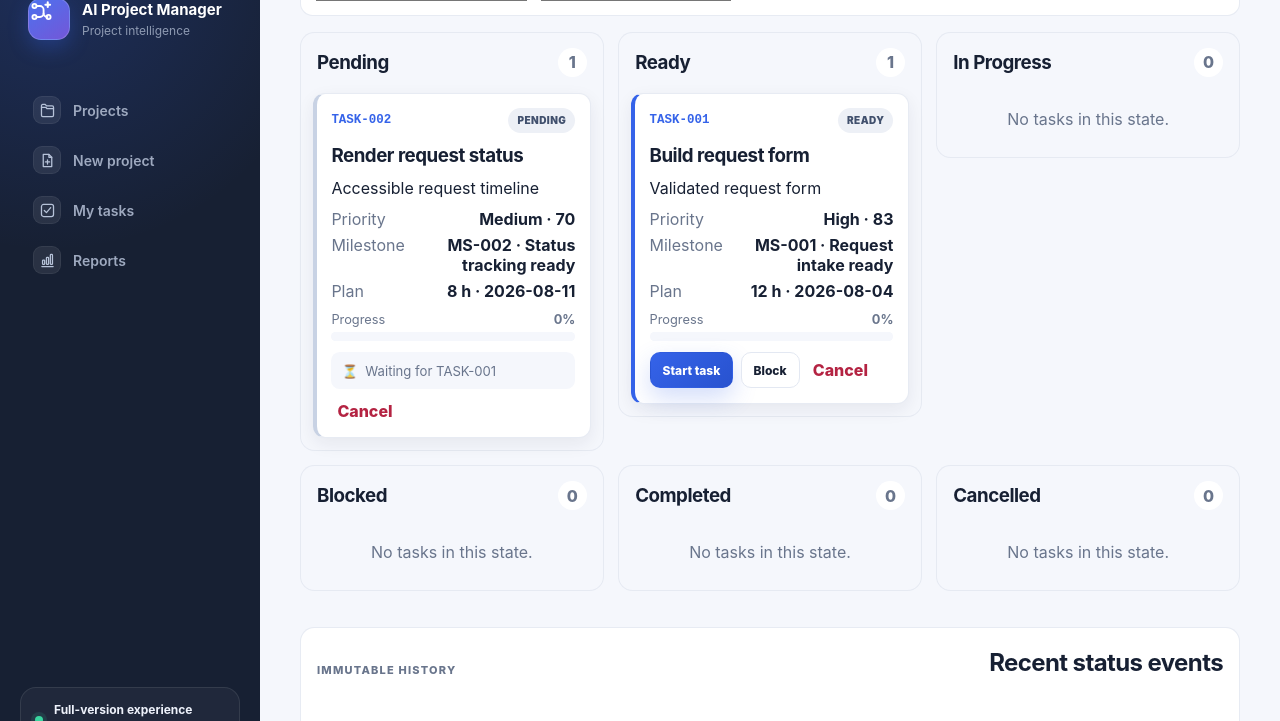
Test case: active execution experience › surfaces a recoverable optimistic concurrency conflict
This screenshot has width=1280, height=721.
(page scrolled)
expect the element "Build request form" is shown: met, box x1=631 y1=92 x2=909 y2=404
Click the button "Start task".
click(691, 370)  # box x1=650 y1=352 x2=733 y2=388
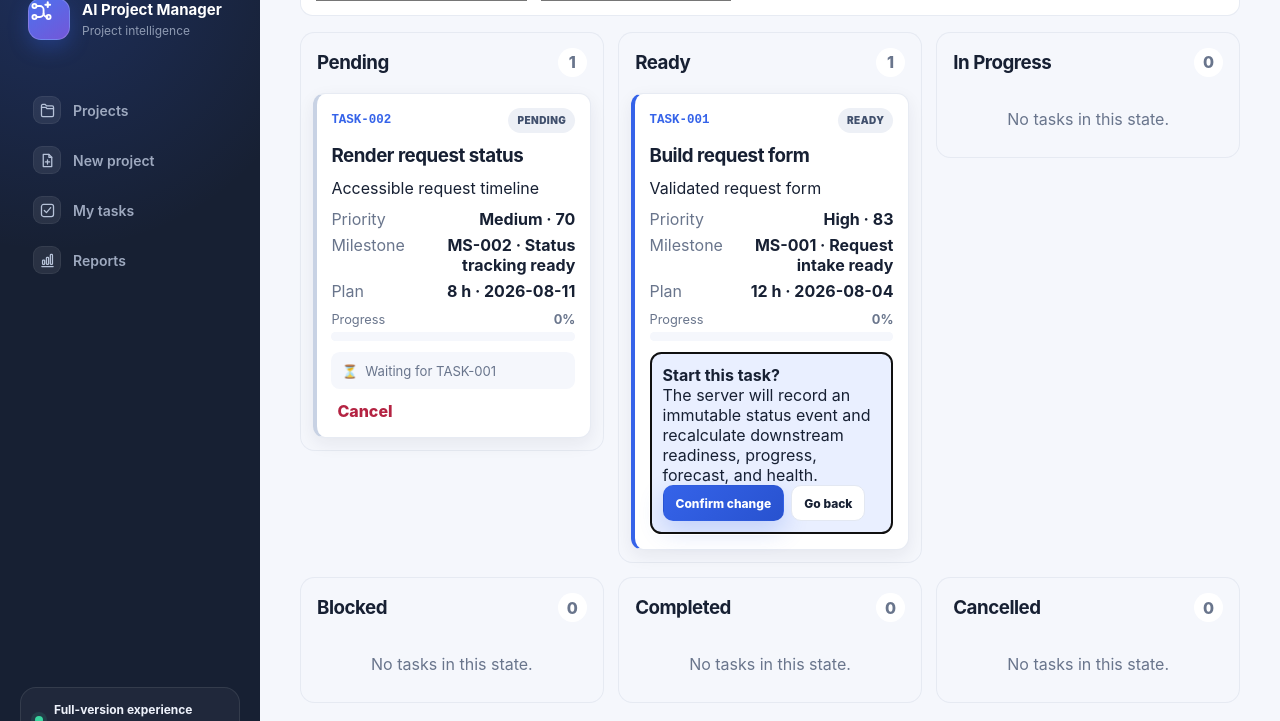
Click the button "Confirm change".
click(723, 503)  # box x1=662 y1=485 x2=784 y2=521
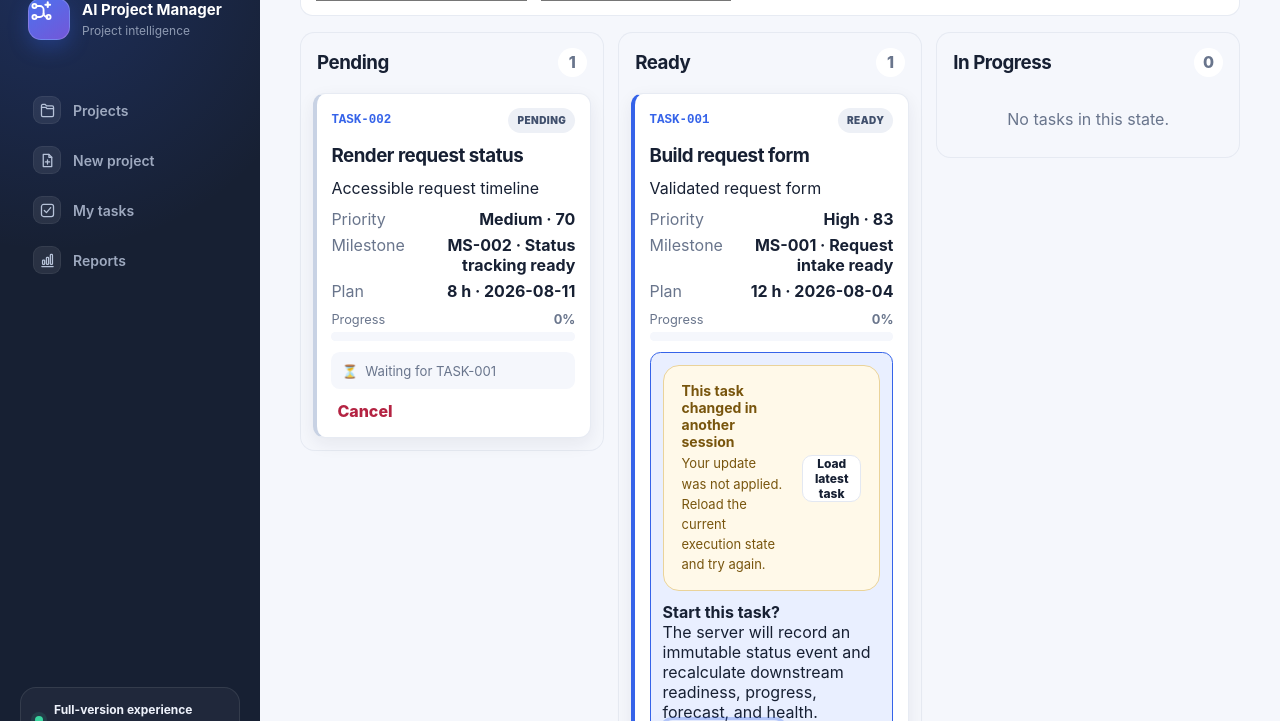
expect the text "This task changed in another session" is shown: met, box x1=682 y1=382 x2=757 y2=450
expect the button "Load latest task" is shown: met, box x1=802 y1=455 x2=862 y2=502
